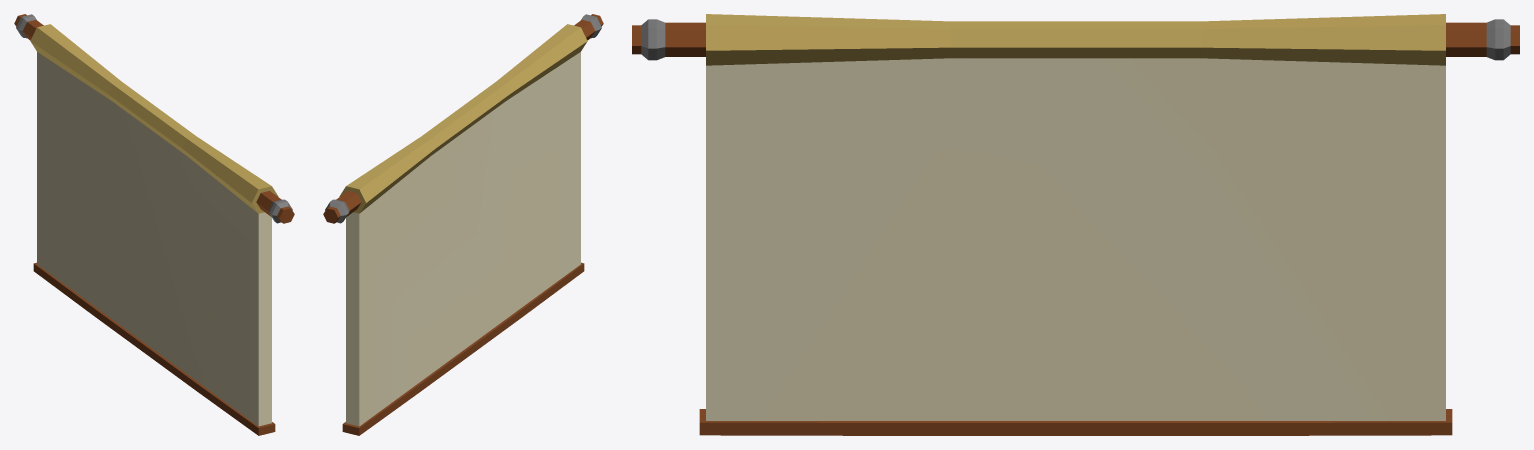
File: Hanging Scroll 2.fbx
The picture shows the model from 3 angles, left to right: view 1: azimuth 30°, elevation 25°; view 2: azimuth 150°, elevation 25°; view 3: azimuth 270°, elevation 25°; orthographic projection. The views are drawn at different scales.
Visible parts, largest first — view 1: Hanging Scroll 2; view 2: Hanging Scroll 2; view 3: Hanging Scroll 2.
Part boxes in pixels (x1,y1,x2,y2): Hanging Scroll 2: (14,14,294,435); Hanging Scroll 2: (323,14,603,435); Hanging Scroll 2: (632,14,1519,435).
Size of the model in its own units: 0.4145 by 3.61 by 7.09.
